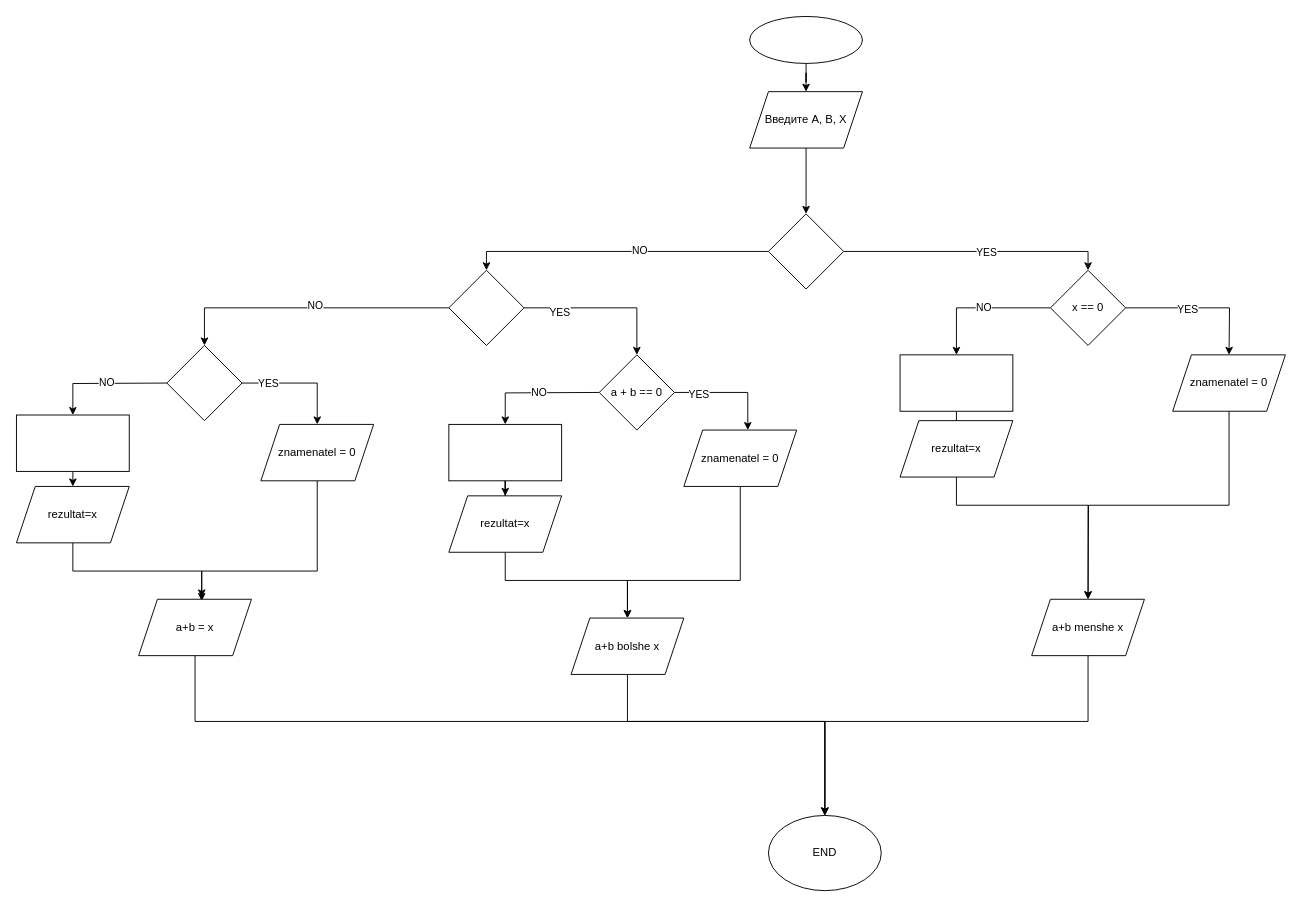
Some shapes in this 1302 by 907 pixel diagram are drawn without their labels. The shapes that lost their labels are listed below. From the top down, each one's centre as x and y in pixels, then its label:
point (805, 39): START
point (806, 251): a + b < x
point (486, 307): a + b > x
point (204, 383): x==0
point (956, 382): x = (a + b) / x;
point (72, 442): x = b / x;
point (505, 452): x = x / (a + b)
